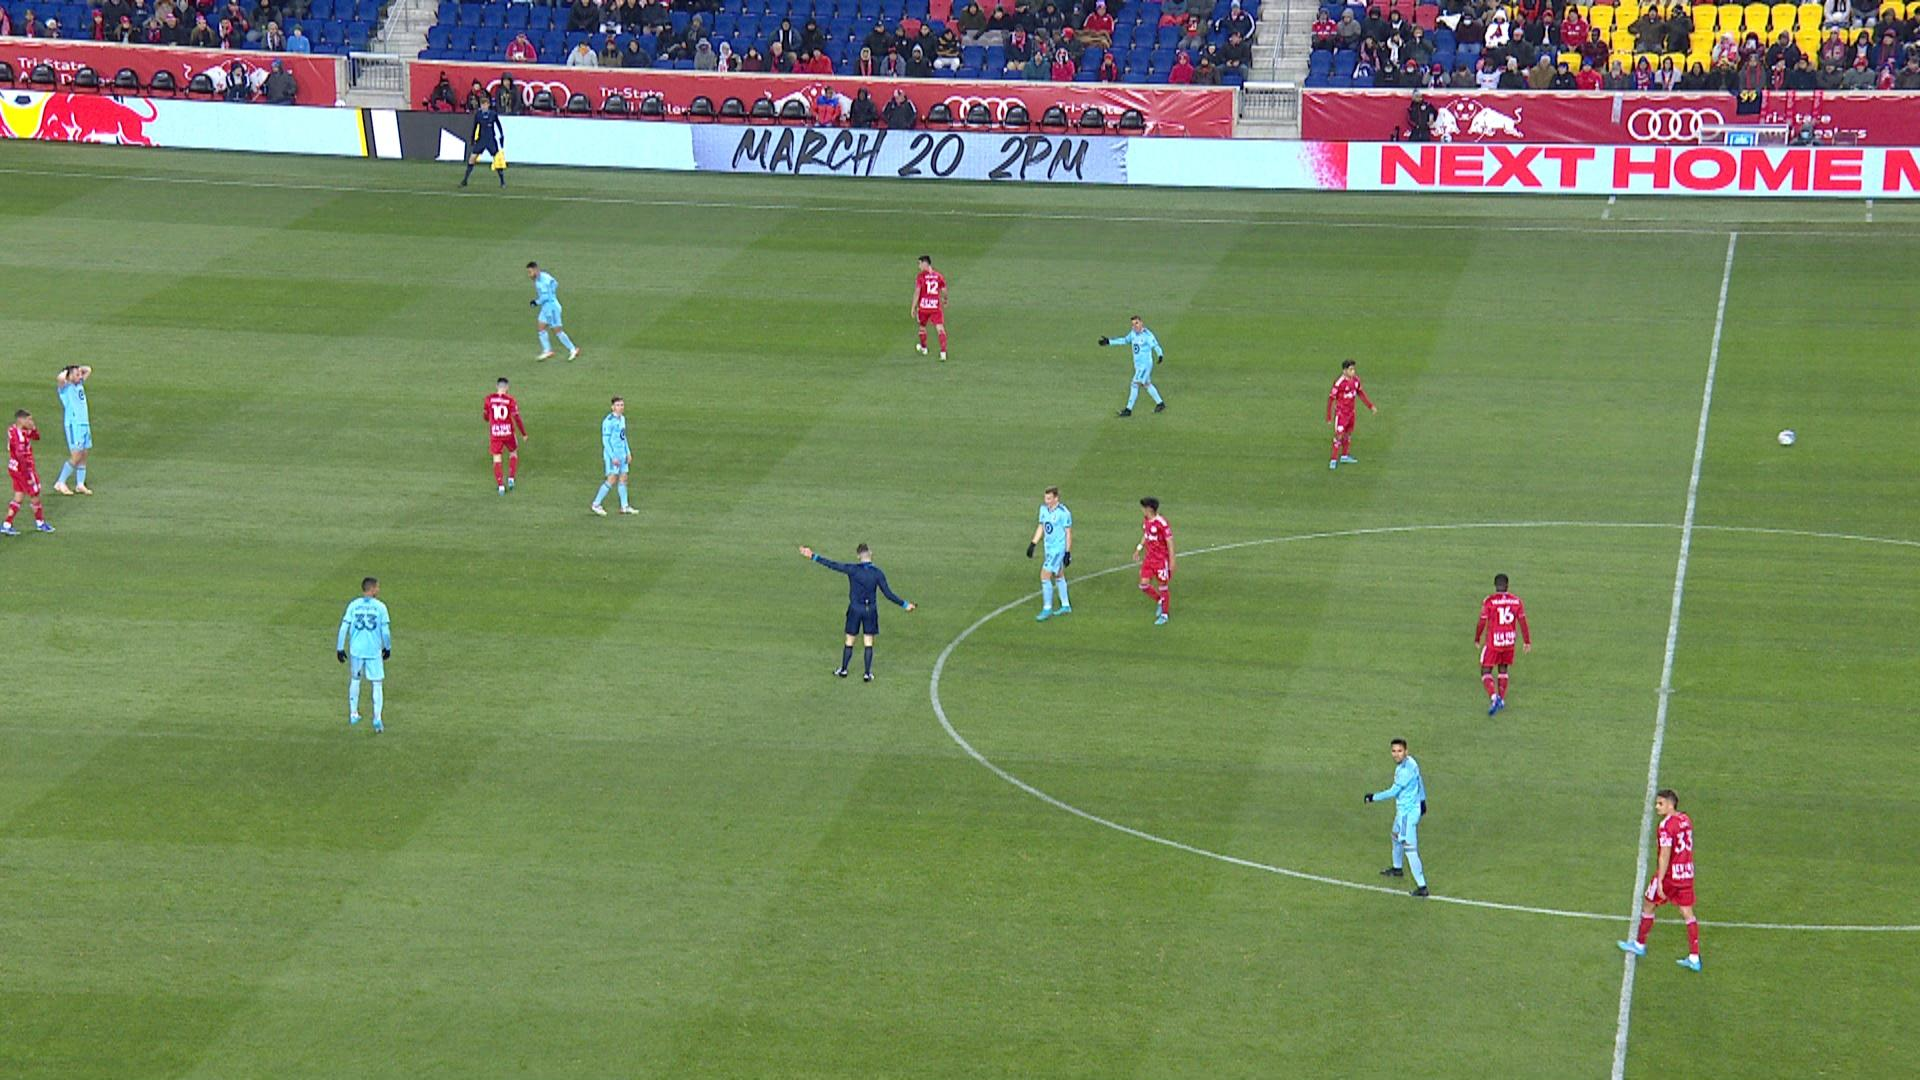football: (1778, 429, 1796, 447)
